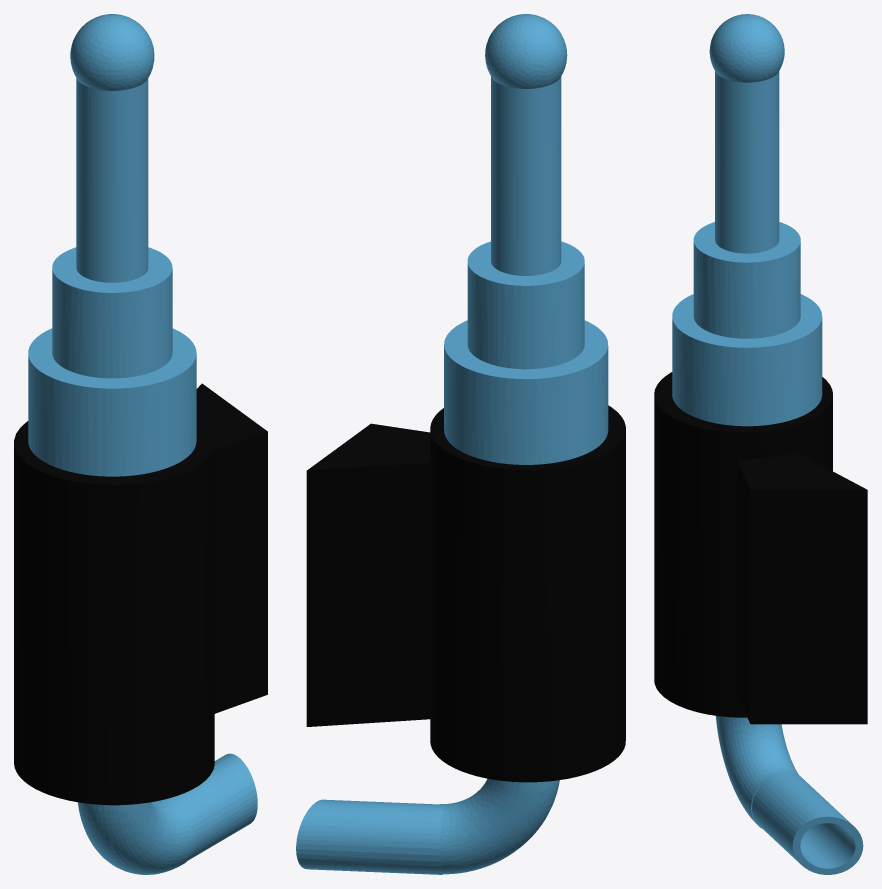
File: LaserGun.fbx
The picture shows the model from 3 angles, left to right: view 1: azimuth 30°, elevation 25°; view 2: azimuth 150°, elevation 25°; view 3: azimuth 270°, elevation 25°; orthographic projection. The views are drawn at different scales.
Parts seen in each view (by area): view 1: Object.1; view 2: Object.1; view 3: Object.1.
Boxes of the visible parts, box(x1,y1,x2,y2) form: Object.1: box(14, 14, 267, 874); Object.1: box(296, 14, 625, 874); Object.1: box(654, 14, 867, 874).
Bounding box in the file's own units: 1238 × 4033 × 997.
